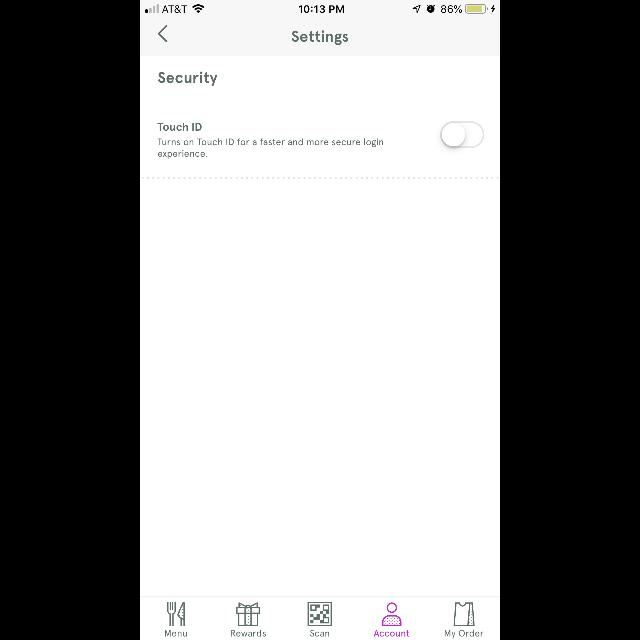icon: (236, 602, 260, 626), (382, 602, 402, 626), (158, 26, 168, 42)
image: (308, 602, 332, 626), (454, 602, 474, 626), (168, 602, 185, 626)
switch: (440, 122, 484, 148)
text: (157, 138, 383, 160), (292, 30, 348, 46), (158, 72, 218, 86), (158, 123, 202, 131), (444, 630, 484, 638), (374, 630, 408, 636), (232, 630, 266, 636), (165, 630, 187, 636), (310, 630, 330, 636)
uppertaskbar: (140, 0, 500, 14)
